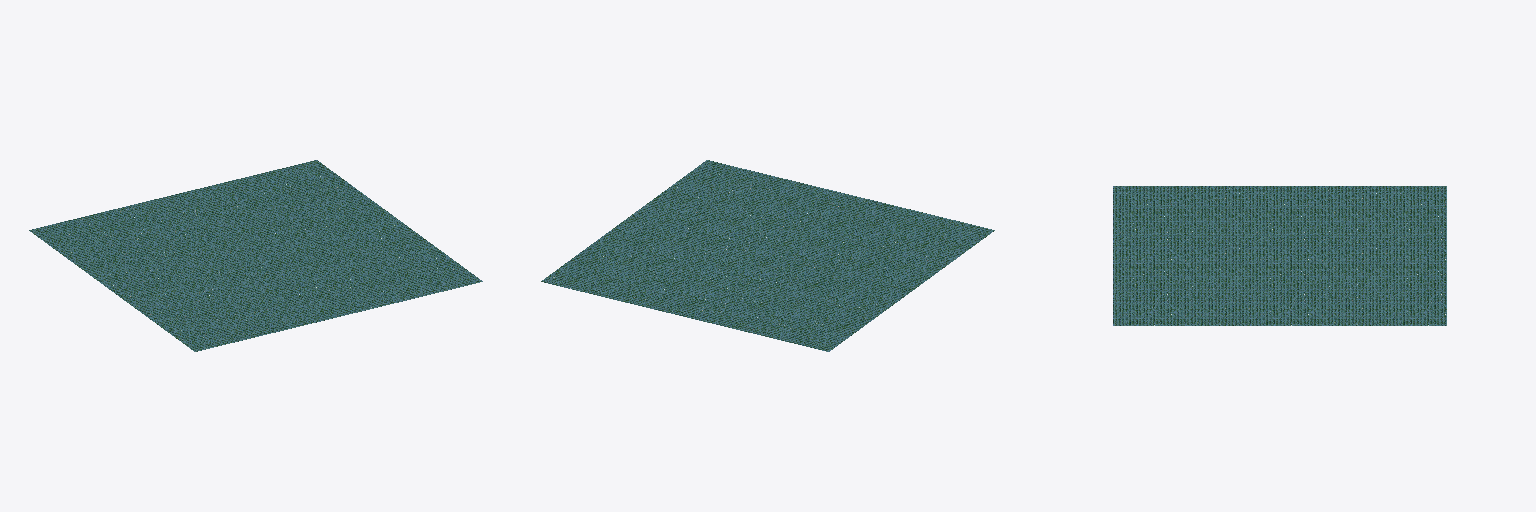
3 views of the same model, side by side, from view 1: azimuth 30°, elevation 25°; view 2: azimuth 150°, elevation 25°; view 3: azimuth 270°, elevation 25° (orthographic).
Visible parts, largest first — view 1: water_Plane.001; view 2: water_Plane.001; view 3: water_Plane.001.
Boxes of the visible parts, <box> form: water_Plane.001: <box>29,160,482,351</box>; water_Plane.001: <box>541,160,994,351</box>; water_Plane.001: <box>1113,186,1446,325</box>.
Bounding box in the file's own units: 110 × 0 × 110.
Materials: 1 (1 with a texture image).